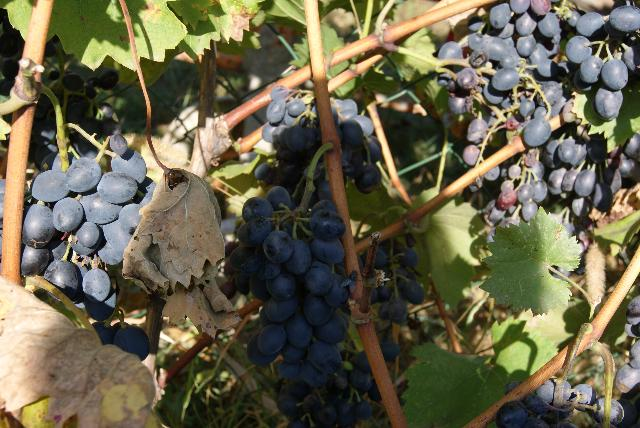grapes: (436, 0, 640, 252), (230, 188, 371, 428), (21, 136, 154, 321), (255, 86, 321, 190), (495, 379, 605, 428), (331, 99, 381, 191)
